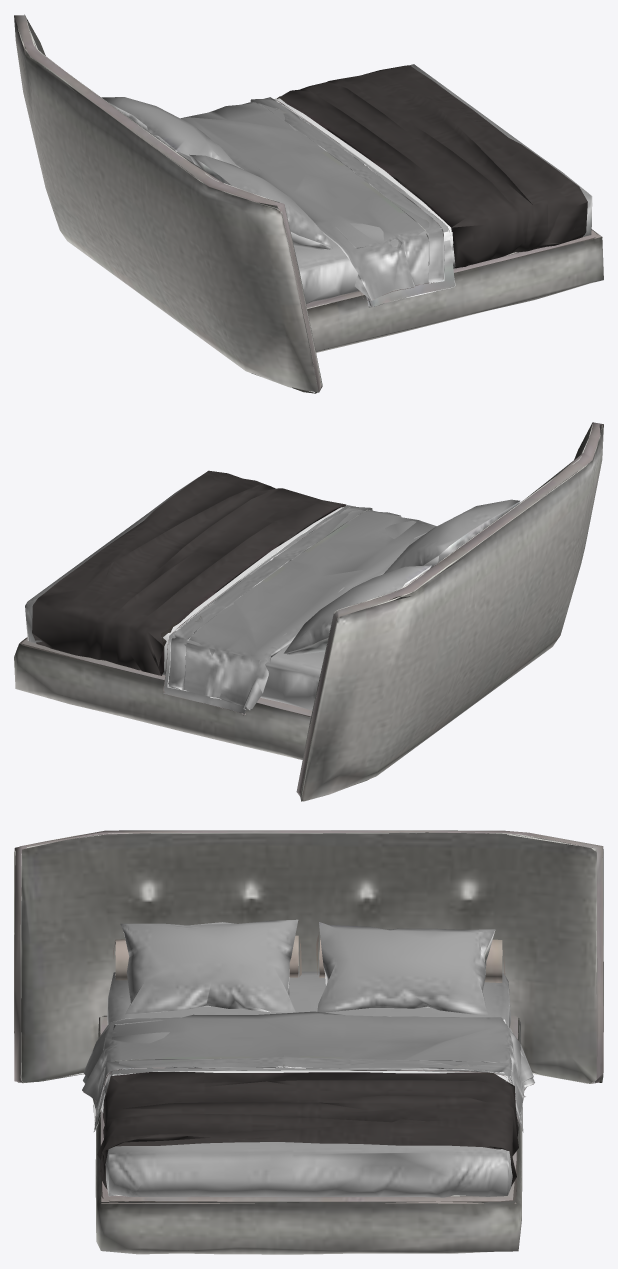
Rendered from Bed0005.obj.
3 views of the same model, one above another, from view 1: azimuth 30°, elevation 25°; view 2: azimuth 150°, elevation 25°; view 3: azimuth 270°, elevation 25° (orthographic). The views are drawn at different scales.
Size of the model in its own units: 2.08 by 0.986 by 2.4.
Materials: 1 (1 with a texture image).
